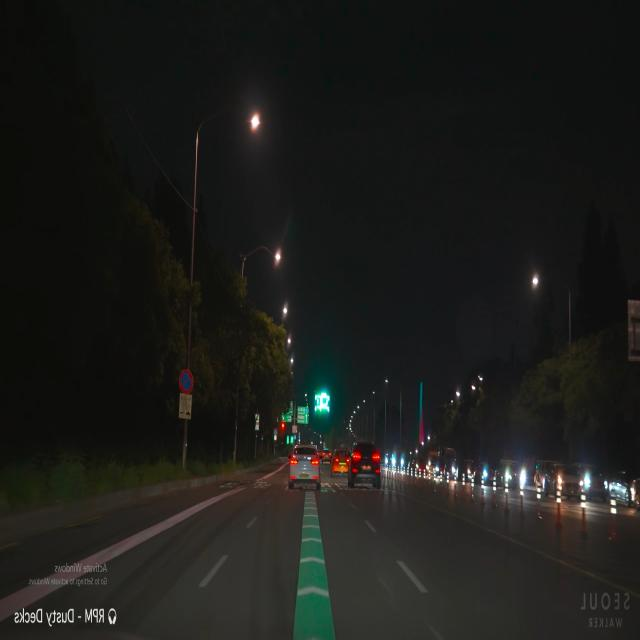headlights: (552, 470, 586, 496), (499, 466, 529, 487)
